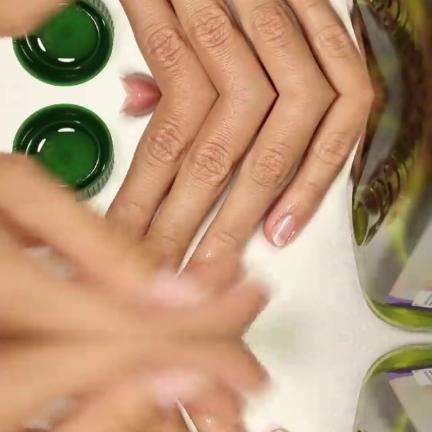Nail: (271, 214, 296, 246), (274, 428, 286, 432)
